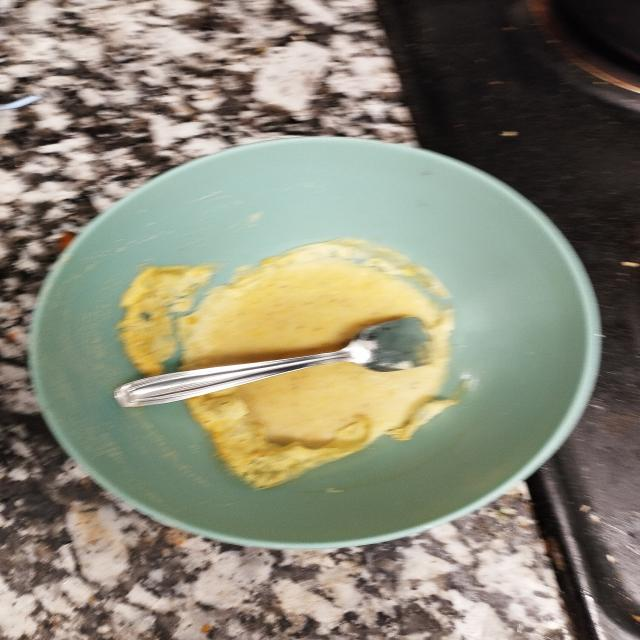Spoon: (113, 316, 478, 415)
